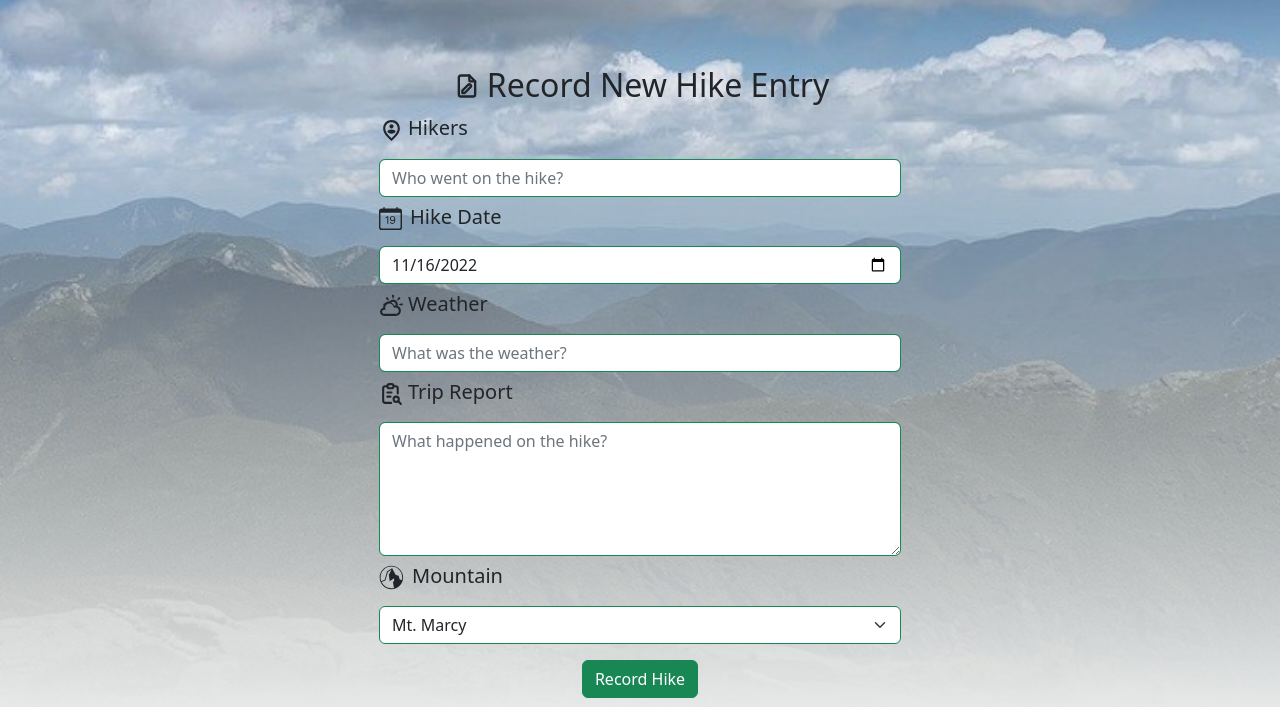
Test: RecordHike component testing › should alert the user that weather is required to submit if input is empty
The image size is (1280, 707).
In the field with placeholder "Who went on the hike?": x=640, y=178 [379,159,901,197], type "Jason"
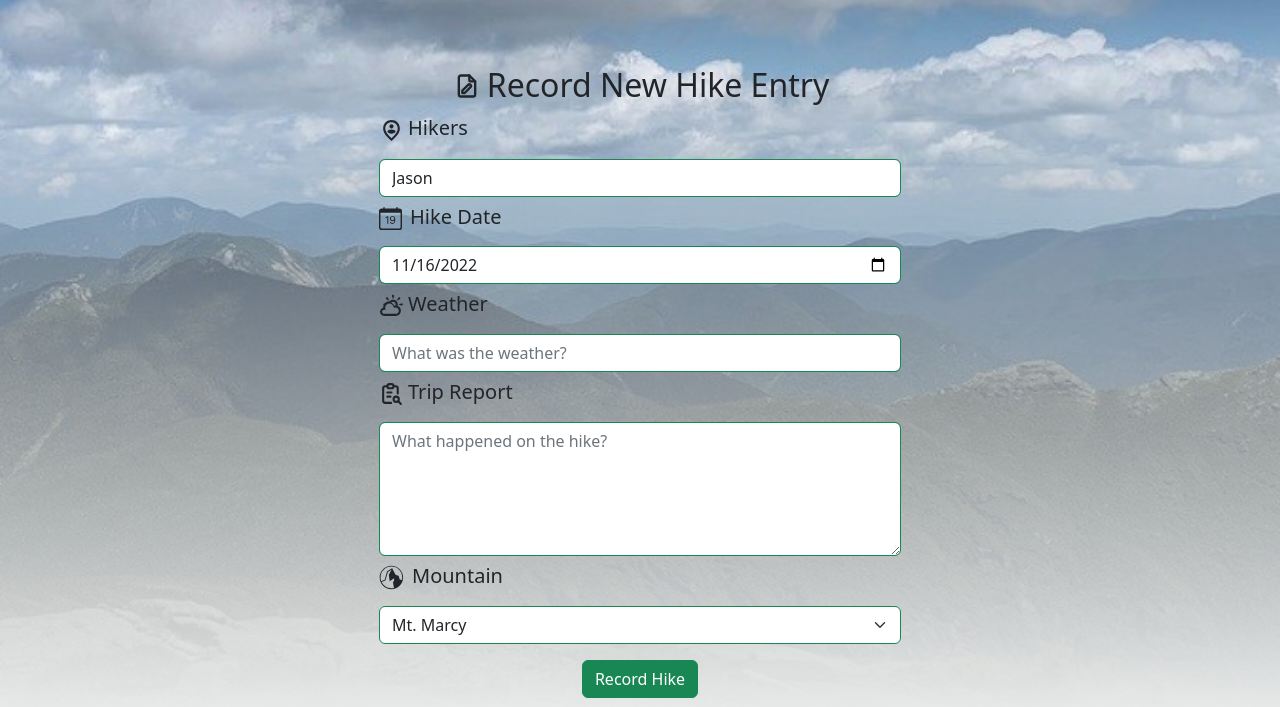
In the date field labelled "Hike Date": x=640, y=265 [379,246,901,284], type "2022-10-10"
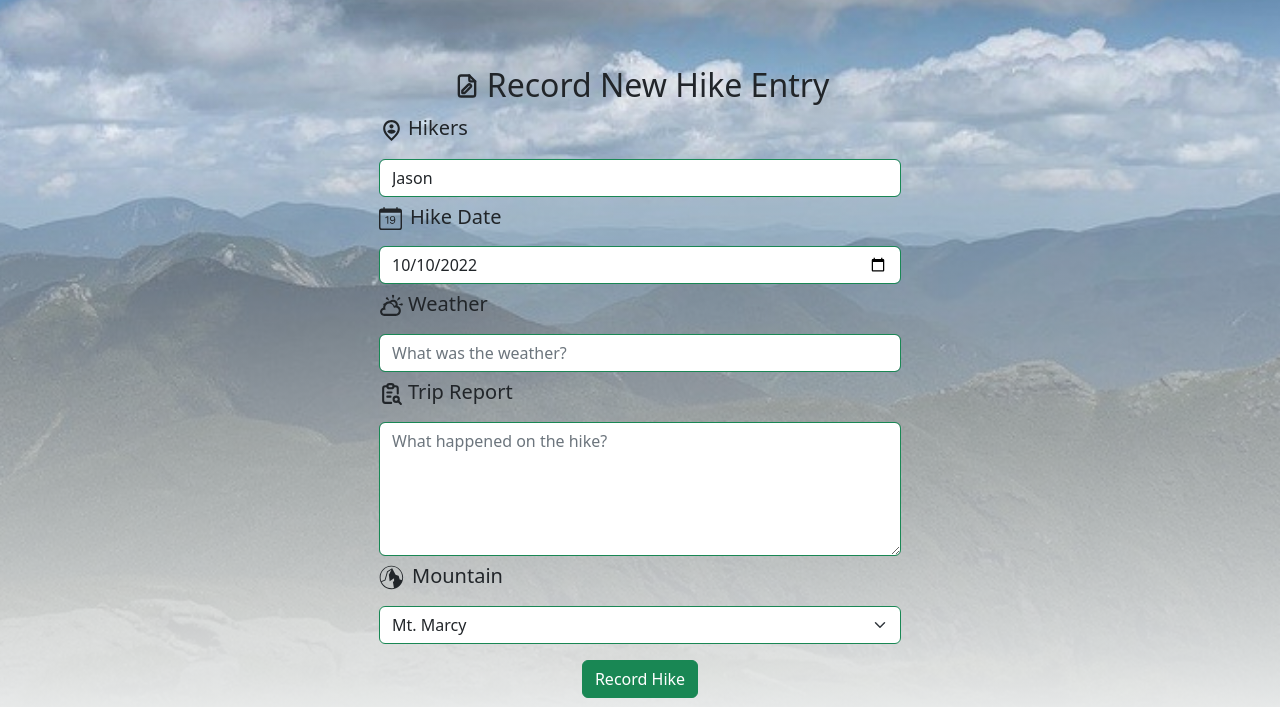
Click the button "Record Hike": x=640, y=679 [582,660,698,698]
(page scrolled)
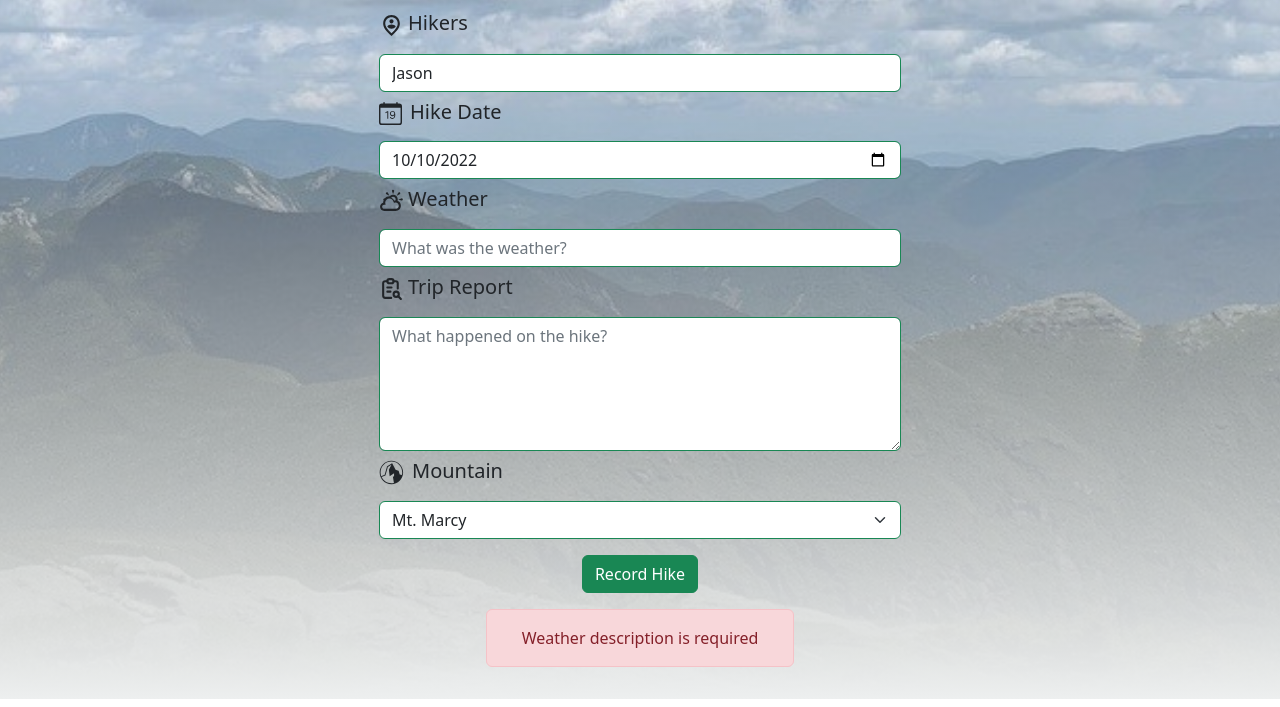
Now the text "Weather description is required" is shown, box [486,609,794,667]
